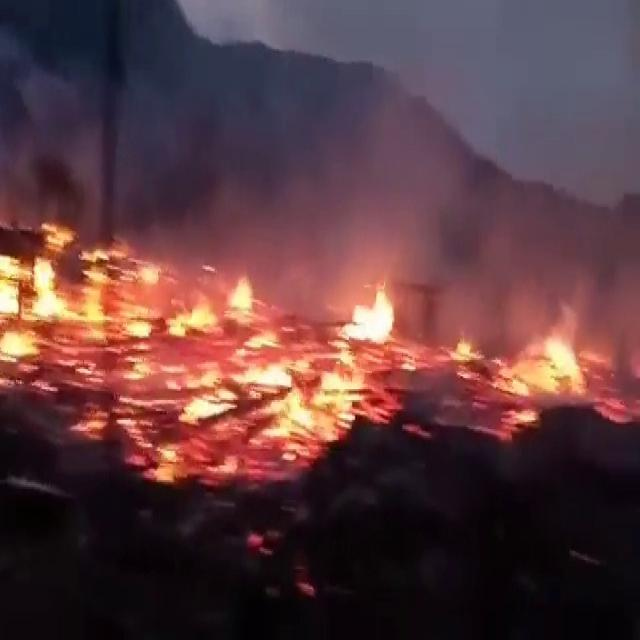Fire: (18, 318, 385, 487), (6, 225, 339, 364), (470, 307, 621, 411), (328, 282, 399, 347)
